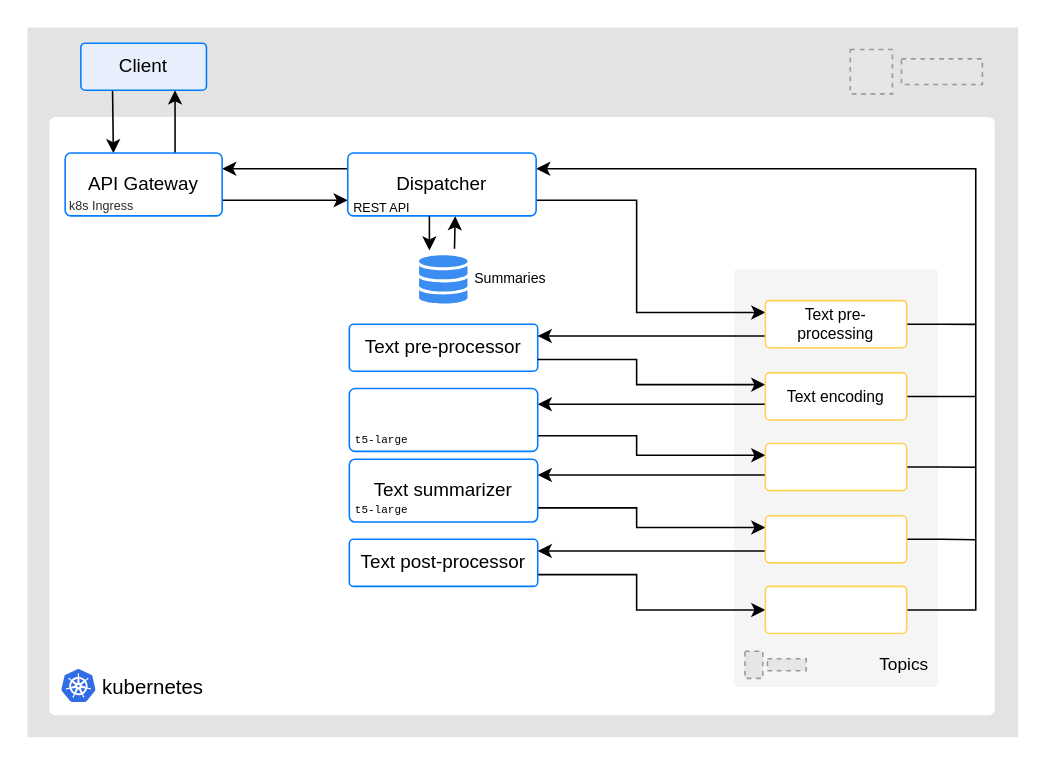
Some shapes in this 1044 by 763 pixel diagram are drawn without their labels. Grey dashed boxes stand in for pictures. Here are the shapes that lost their labels. From the top down, the box of each, then its label:
(348, 387, 538, 451): Text encoder
(764, 442, 907, 491): Text summa- rization
(764, 514, 907, 563): Text post- processing
(764, 585, 907, 633): Ready
